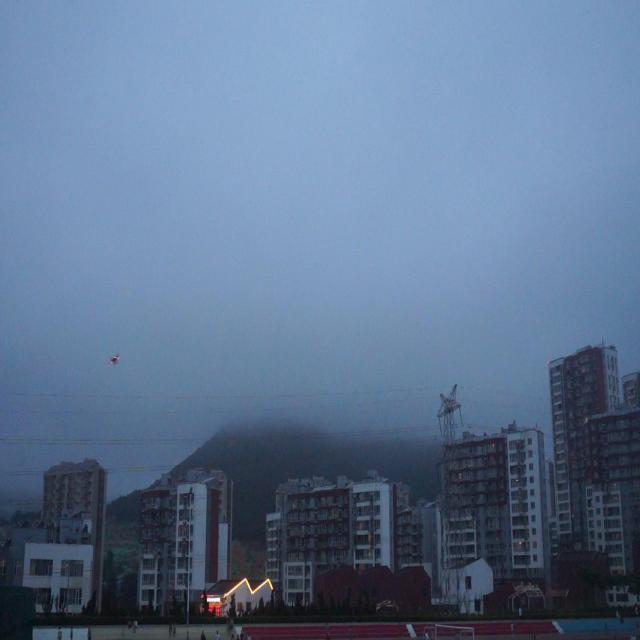UAV: (109, 356, 120, 366)
